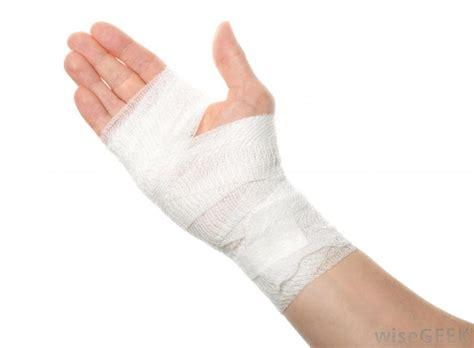gauze: (68, 60, 377, 319)
